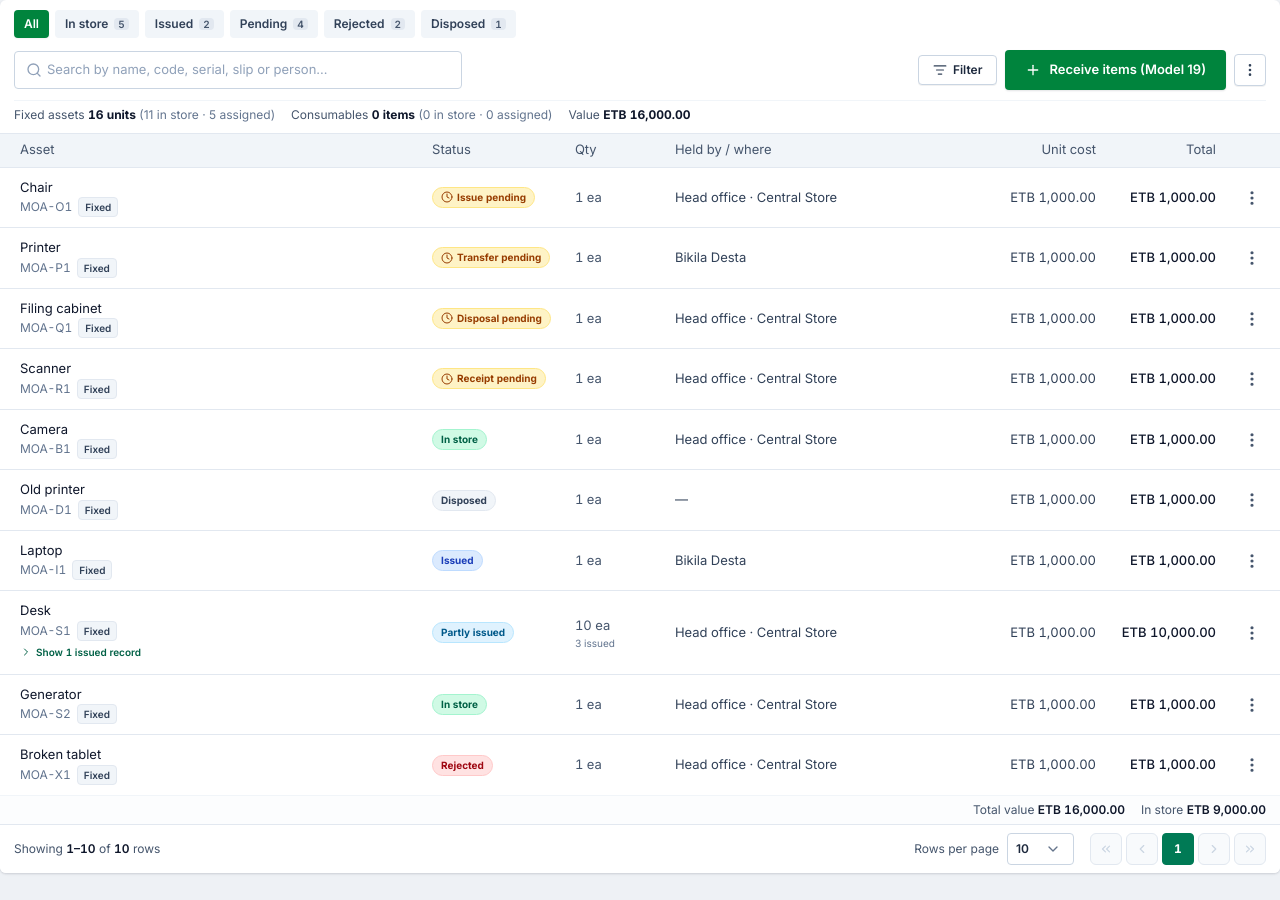
Assets page › opens the issue form with the record already chosen
Check: the text "MOA-S1" is shown, box [20, 623, 71, 639]
Click the button named "Actions for MOA-S1" at x=1252, y=632, box [1236, 616, 1268, 648]
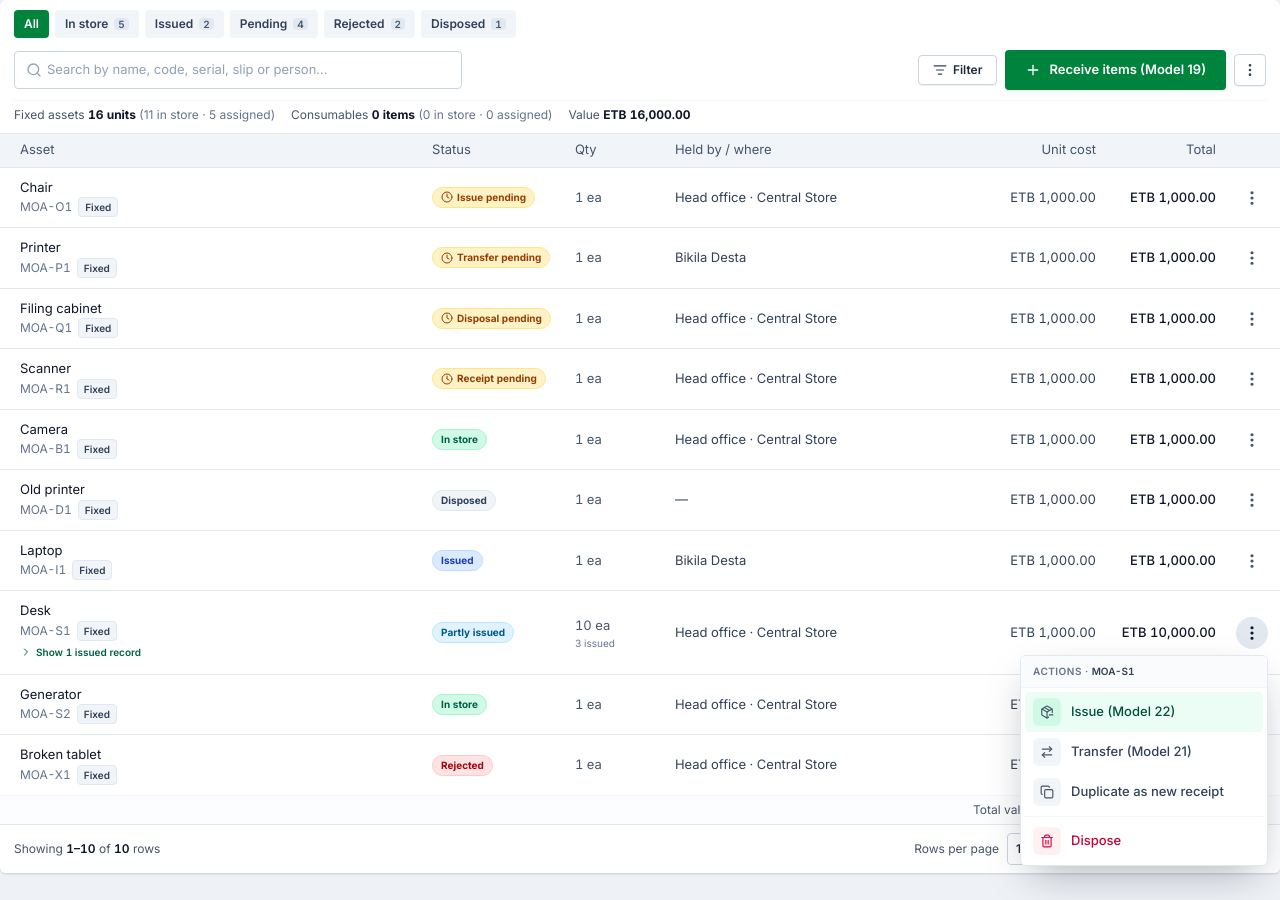
Click the menu item "Issue (Model 22)" at x=1144, y=712, box [1025, 692, 1263, 732]
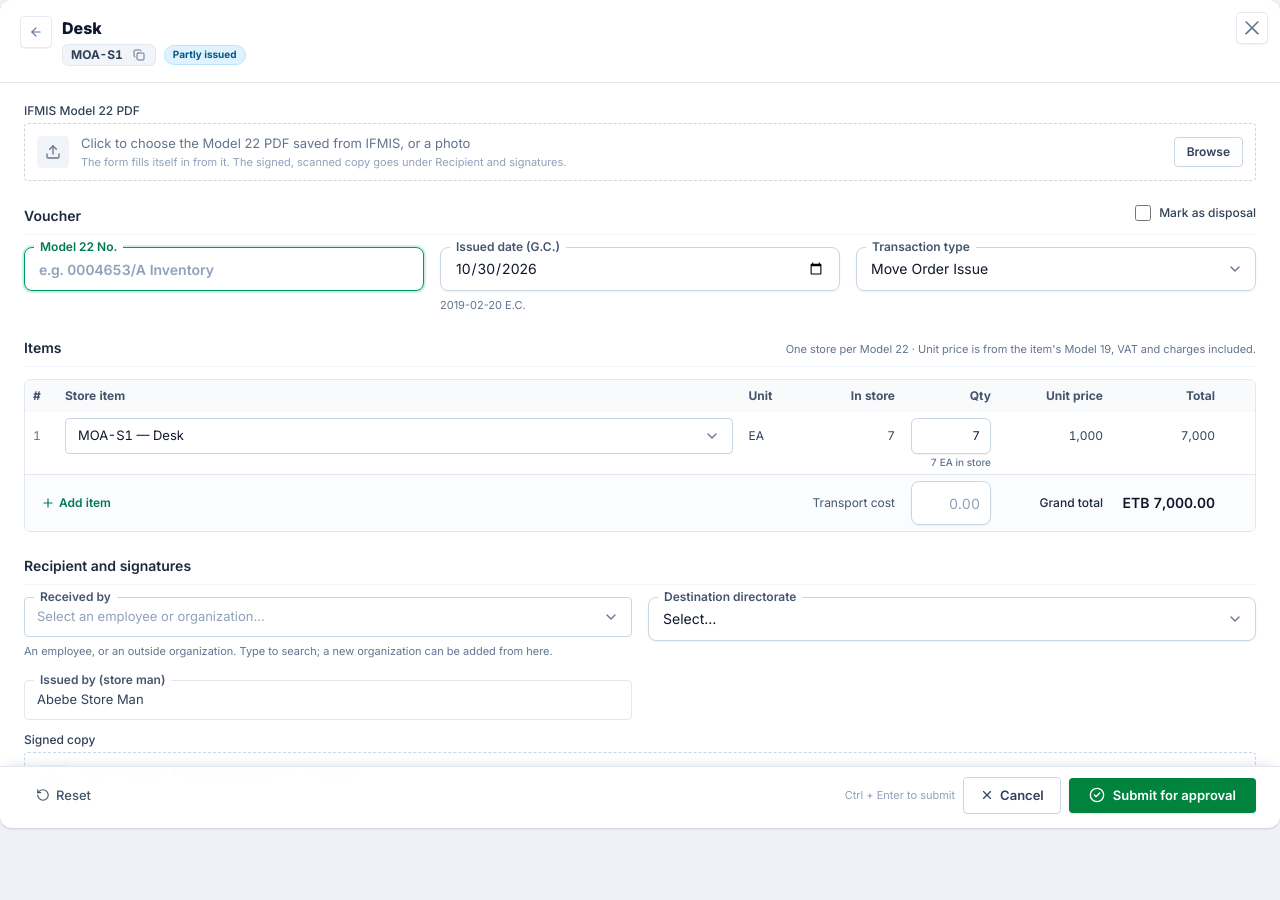
Check: the form with id "stock-out-form" is shown
Check: the button "Submit for approval" is enabled, box [1069, 778, 1256, 813]
